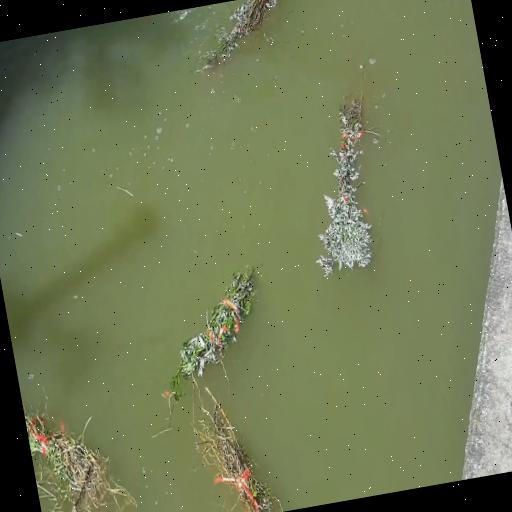twig: (281, 58, 401, 282), (178, 344, 285, 512), (146, 261, 274, 391), (22, 389, 143, 512), (179, 0, 288, 75)
